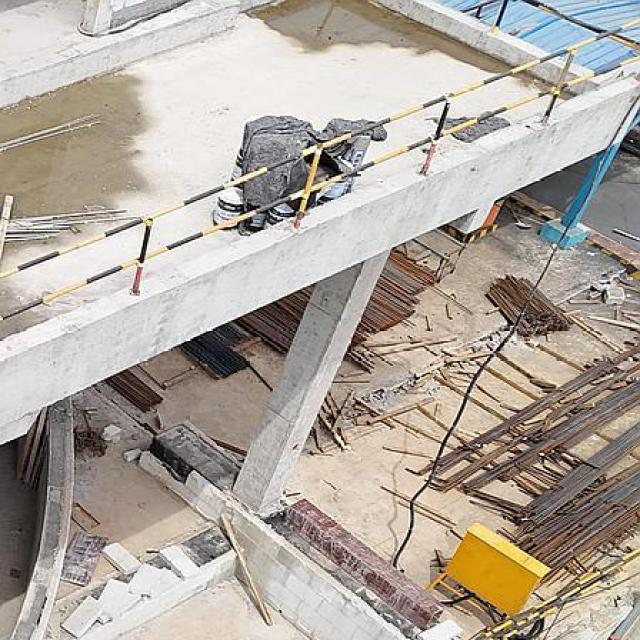edge_guardrail: (0, 0, 640, 323), (483, 547, 640, 640)
